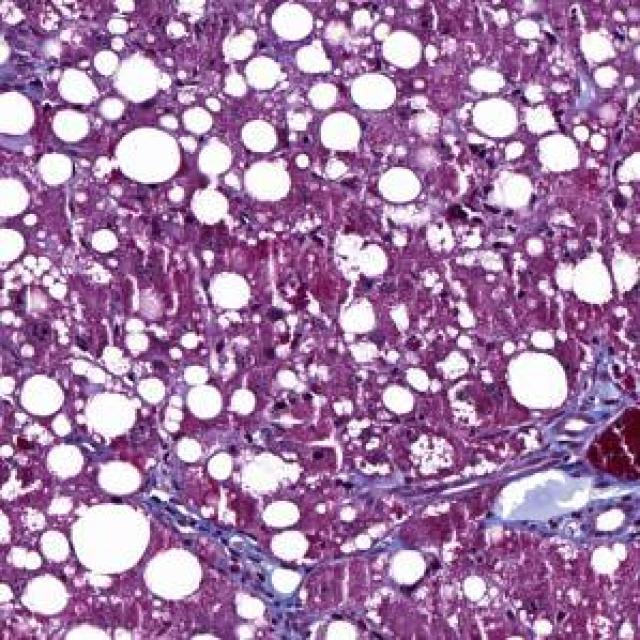fibrosis: (458, 445, 629, 531)
